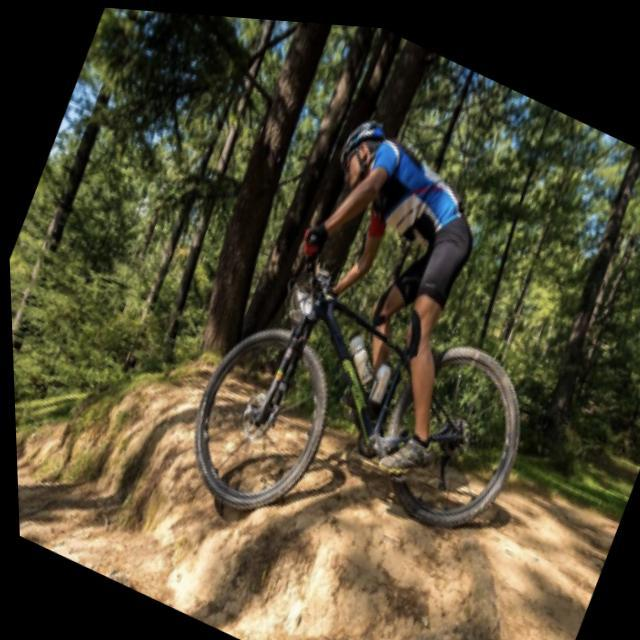Helmet: (329, 113, 388, 195)
